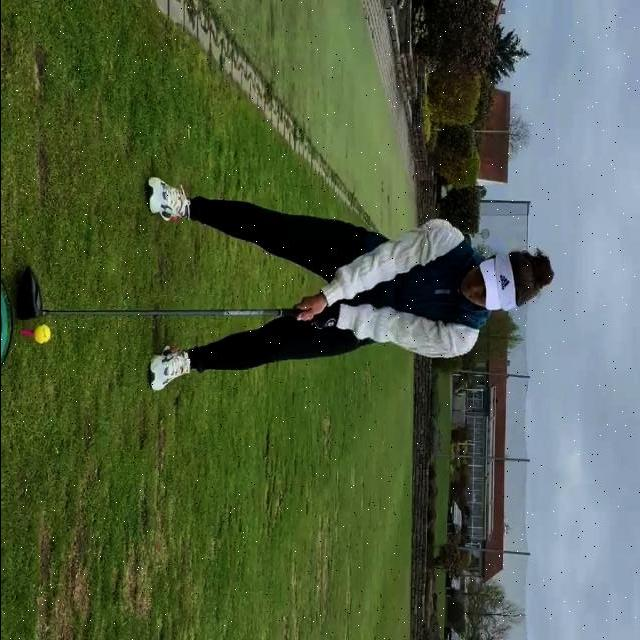golf ball: (32, 325, 50, 346)
golf club-handle: (11, 260, 301, 325)
golf club-head: (15, 265, 42, 322)
